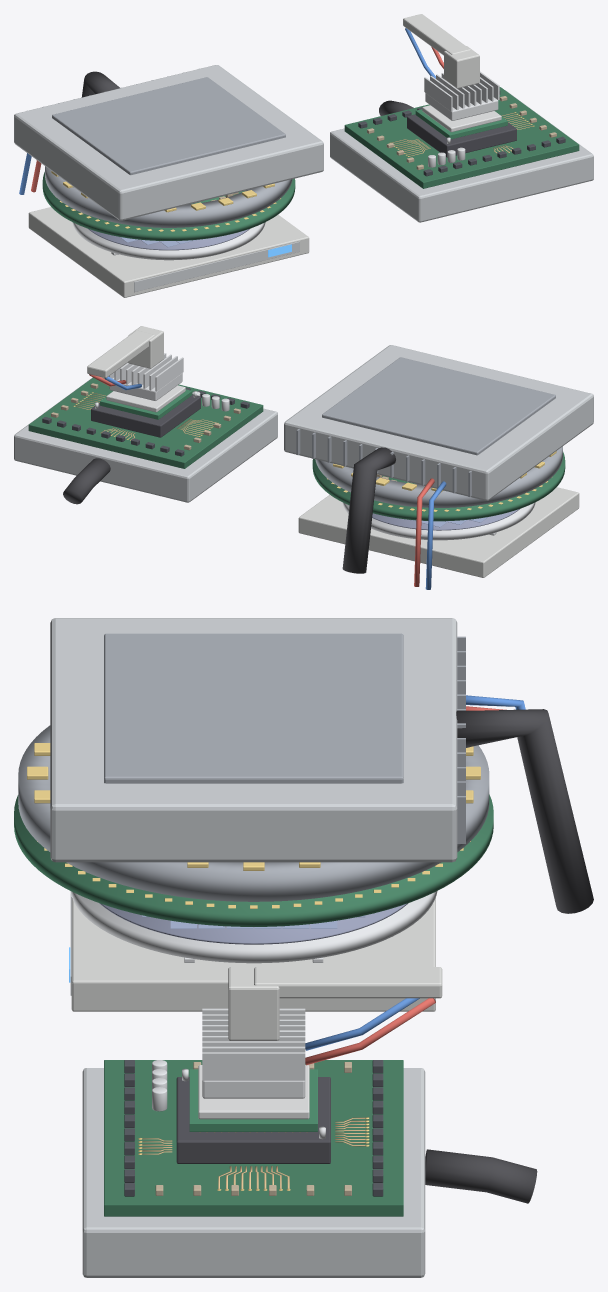
The picture shows the model from 3 angles, top to bottom: view 1: azimuth 30°, elevation 25°; view 2: azimuth 150°, elevation 25°; view 3: azimuth 270°, elevation 25°; orthographic projection. The views are drawn at different scales.
Visible parts, largest first — view 1: ate-head__body751__e6, ate-head__top752__e6, ate-head__ft_body768, load-board__board771__e1, prober-chuck__cabinet1, pogo-tower__ring725__e5, probe-card-pcb__board575__e4, prober-chuck__chuck7, test-socket__body883__e2, load-board__components881__e1, prober-chuck__front2, handler__beam1156__e4 (+9 smaller); view 2: ate-head__body751__e6, ate-head__top752__e6, ate-head__ft_body768, prober-chuck__cabinet1, load-board__board771__e1, pogo-tower__ring725__e5, probe-card-pcb__board575__e4, ate-head__cable765__e6, test-socket__body883__e2, prober-chuck__chuck7, load-board__components881__e1, handler__beam1156__e4 (+10 smaller); view 3: ate-head__body751__e6, ate-head__top752__e6, ate-head__ft_body768, load-board__board771__e1, prober-chuck__cabinet1, pogo-tower__ring725__e5, probe-card-pcb__board575__e4, ate-head__cable765__e6, prober-chuck__chuck7, test-socket__body883__e2, handler__beam1156__e4, load-board__components881__e1 (+11 smaller).
Part boxes in pixels (box(x1,y1,x2,y2)): ate-head__body751__e6: box(14, 65, 323, 220); ate-head__top752__e6: box(52, 77, 285, 175); ate-head__ft_body768: box(330, 90, 593, 222); load-board__board771__e1: box(344, 87, 579, 188); prober-chuck__cabinet1: box(28, 207, 309, 297); pogo-tower__ring725__e5: box(45, 166, 292, 227); probe-card-pcb__board575__e4: box(42, 172, 295, 240); prober-chuck__chuck7: box(72, 222, 265, 260); test-socket__body883__e2: box(407, 114, 516, 157); load-board__components881__e1: box(358, 90, 565, 176); prober-chuck__front2: box(134, 241, 299, 292); handler__beam1156__e4: box(403, 14, 470, 55); ate-head__body751__e6: box(284, 345, 593, 500); ate-head__top752__e6: box(322, 357, 555, 455); ate-head__ft_body768: box(14, 377, 277, 502); prober-chuck__cabinet1: box(298, 487, 579, 577); load-board__board771__e1: box(28, 377, 263, 468); pogo-tower__ring725__e5: box(315, 446, 562, 507); probe-card-pcb__board575__e4: box(312, 452, 565, 521); ate-head__cable765__e6: box(342, 447, 395, 573); test-socket__body883__e2: box(91, 394, 200, 437); prober-chuck__chuck7: box(342, 502, 535, 540); load-board__components881__e1: box(42, 377, 249, 456); handler__beam1156__e4: box(87, 330, 154, 377); ate-head__body751__e6: box(50, 618, 457, 862); ate-head__top752__e6: box(104, 633, 403, 783); ate-head__ft_body768: box(82, 1068, 425, 1277); load-board__board771__e1: box(104, 1060, 403, 1216); prober-chuck__cabinet1: box(71, 897, 435, 1011); pogo-tower__ring725__e5: box(18, 725, 489, 901); probe-card-pcb__board575__e4: box(14, 794, 493, 926); ate-head__cable765__e6: box(456, 709, 593, 913); prober-chuck__chuck7: box(70, 891, 437, 963); test-socket__body883__e2: box(176, 1077, 330, 1163); handler__beam1156__e4: box(254, 967, 442, 998); load-board__components881__e1: box(124, 1060, 383, 1196).
Size of the model in its own units: 25.1 by 5.83 by 13.54.
